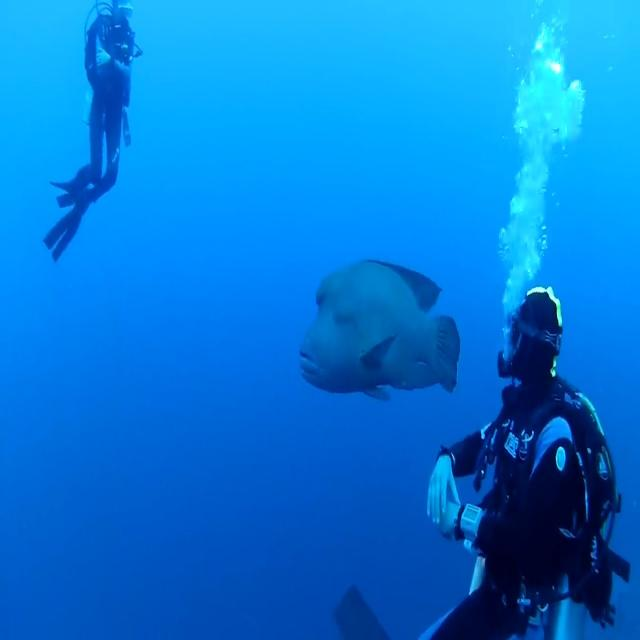Napoleon -Endangered-: (300, 256, 459, 402)
